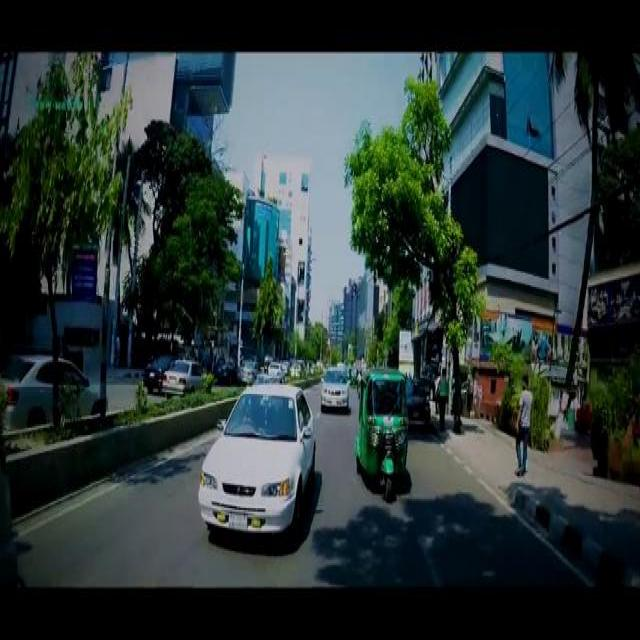vehicle: (198, 385, 316, 533), (1, 351, 109, 419), (354, 368, 408, 500), (163, 359, 210, 391), (405, 376, 431, 426), (320, 369, 350, 408), (144, 356, 167, 386), (238, 358, 258, 380), (268, 360, 283, 375)
